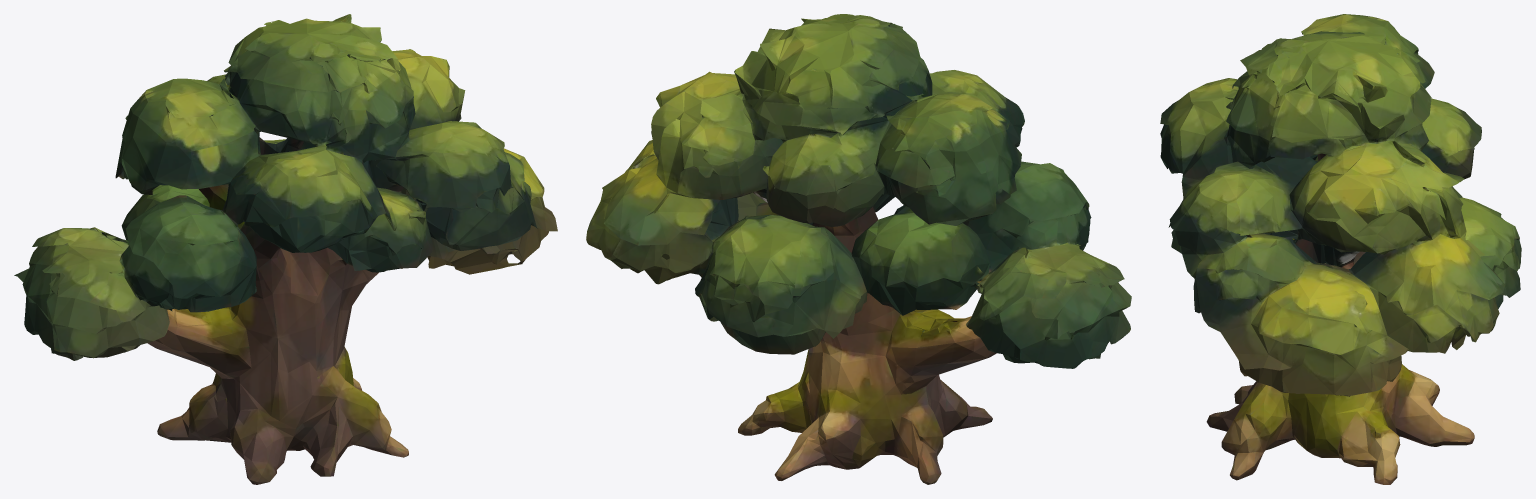
Rendered from oak2.glb.
3 renders of one model, left to right at view 1: azimuth 30°, elevation 25°; view 2: azimuth 150°, elevation 25°; view 3: azimuth 270°, elevation 25°, orthographic. The views are drawn at different scales.
Visible parts, largest first — view 1: world; view 2: world; view 3: world.
Part boxes in pixels (box(x1,y1,x2,y2)): world: box(14, 14, 557, 484); world: box(586, 14, 1131, 484); world: box(1160, 14, 1521, 484).
Bounding box in the file's own units: 0.9979 × 0.7876 × 0.6244.
1 material, 1 textured.
